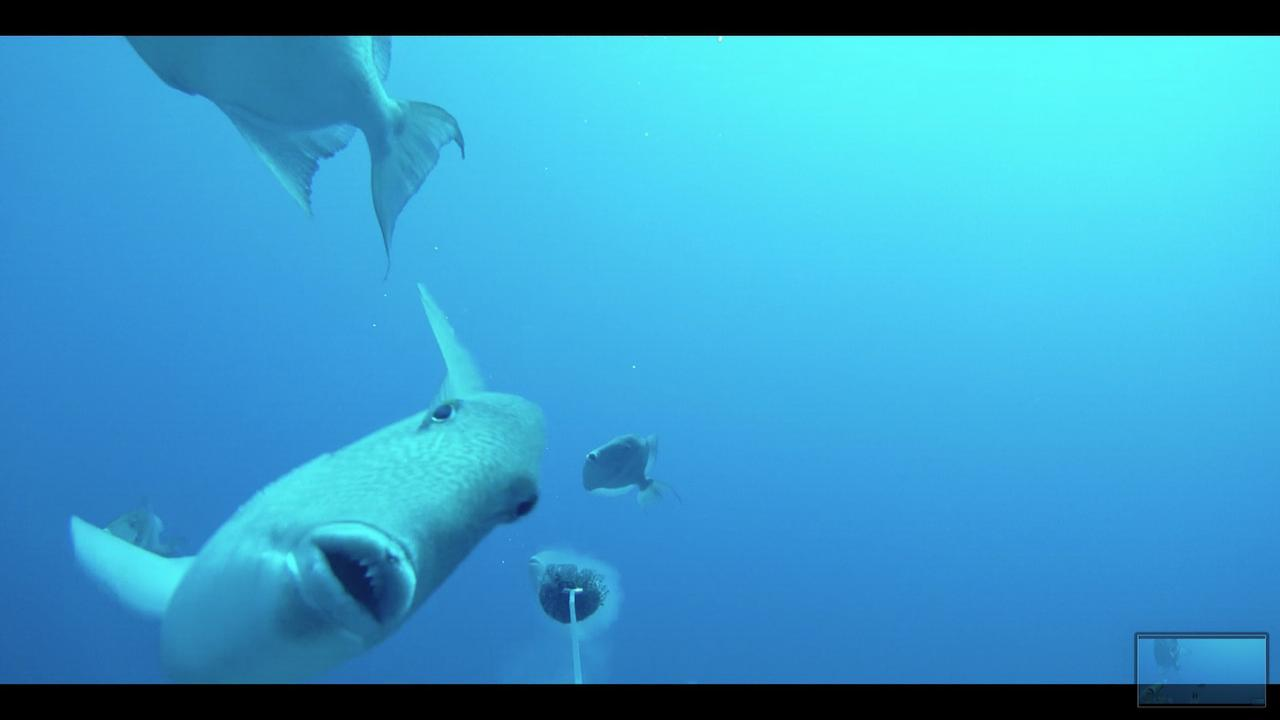balistes: (48, 277, 555, 679), (111, 31, 470, 270), (572, 431, 670, 503)
